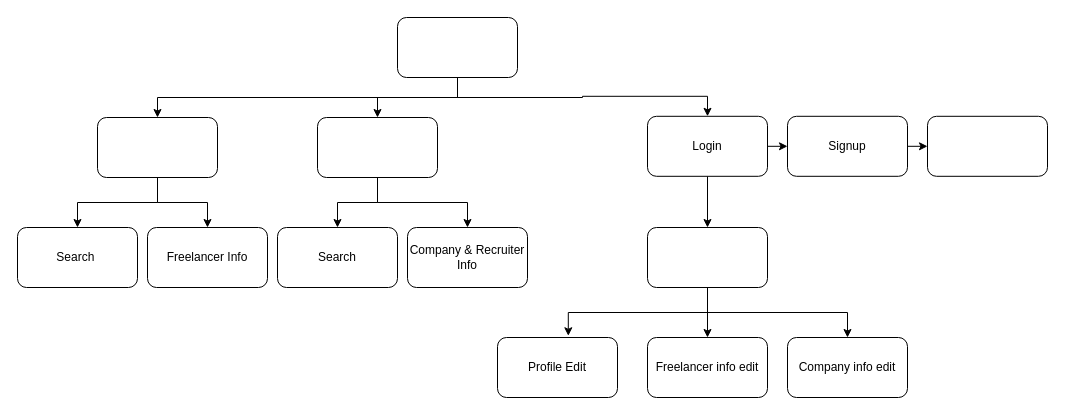
This 1065x415 diagram has some shape labels left out. Each missing label, with the centre of its shape:
"Home" goes at point (457, 47).
"List of Freelancers" goes at point (157, 147).
"List of Positions" goes at point (377, 147).
"Profile Set Up" goes at point (987, 145).
"User" goes at point (707, 257).
